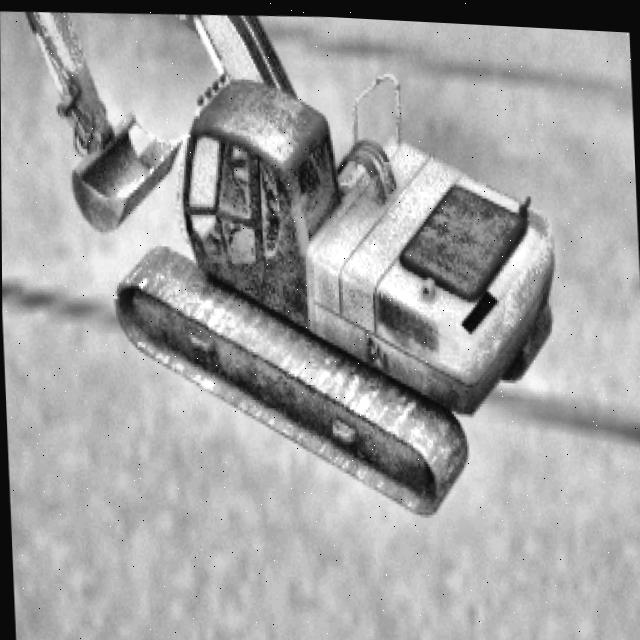excavator: (0, 0, 561, 530)
